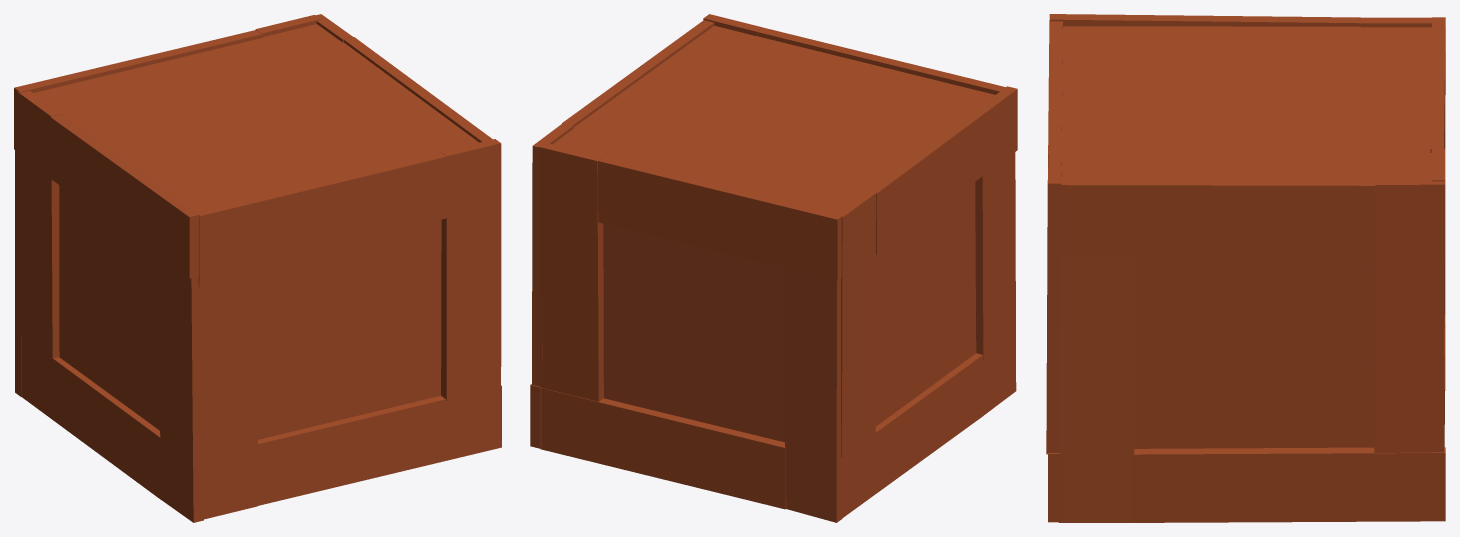
The model's file is Tuh-Un-Tuh.fbx.
3 views of the same model, side by side, from view 1: azimuth 30°, elevation 25°; view 2: azimuth 150°, elevation 25°; view 3: azimuth 270°, elevation 25° (orthographic). The views are drawn at different scales.
Visible parts, largest first — view 1: Cube; view 2: Cube; view 3: Cube.
Part boxes in pixels (x1,y1,x2,y2): Cube: (14, 14, 501, 522); Cube: (530, 14, 1017, 522); Cube: (1046, 14, 1445, 522).
Bounding box in the file's own units: 214 × 201 × 214.
